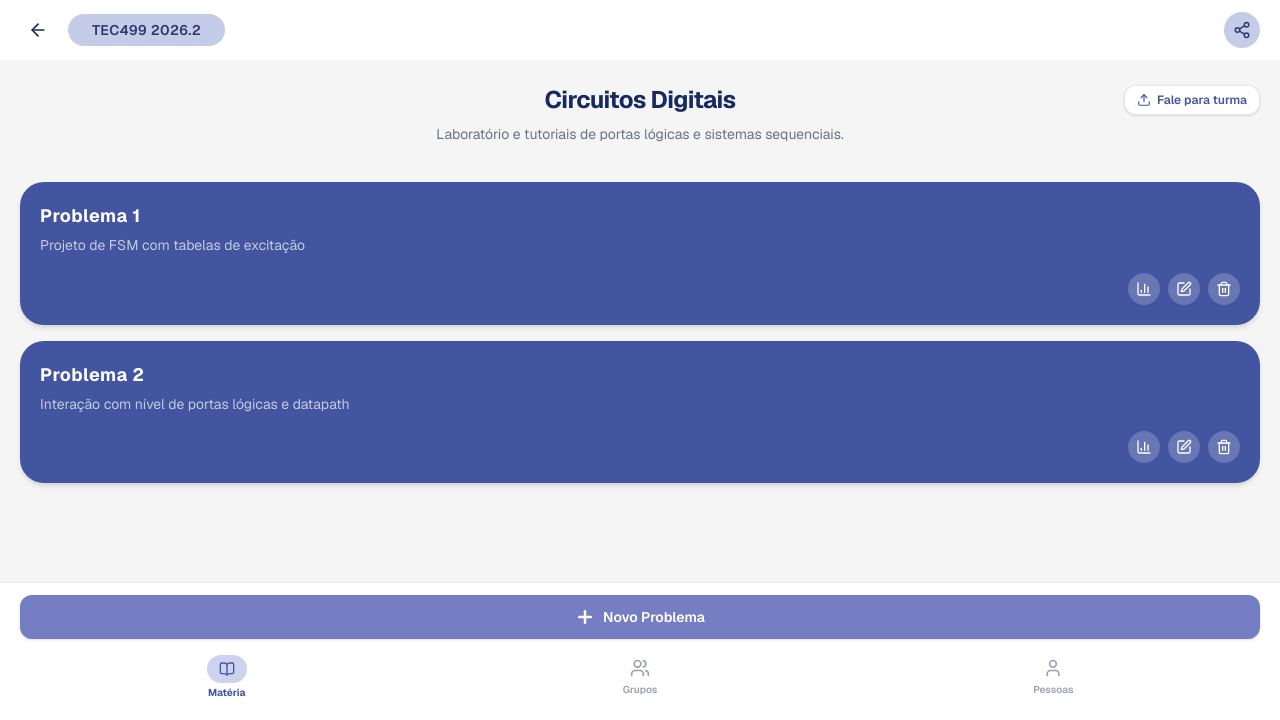
Test case: [US05] Integração da página de disciplinas (CRUD de problemas) › Deve fechar o modal sem excluir quando o tutor cancela
The image size is (1280, 720).
expect the heading "Problema 1" is shown: met, box [40, 204, 141, 227]
Click the 2nd button named "Delete problem": (1224, 447) [1208, 431, 1240, 463]
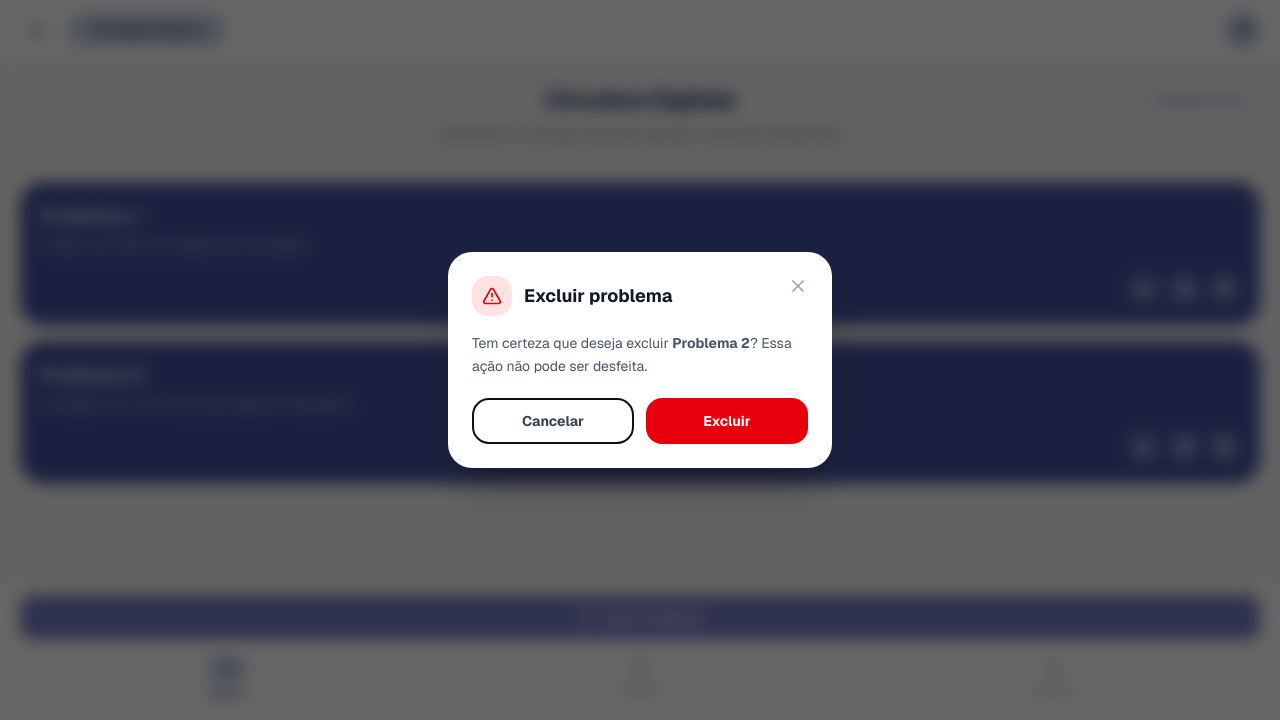
Click the button "Cancelar": (553, 421) [472, 398, 634, 444]
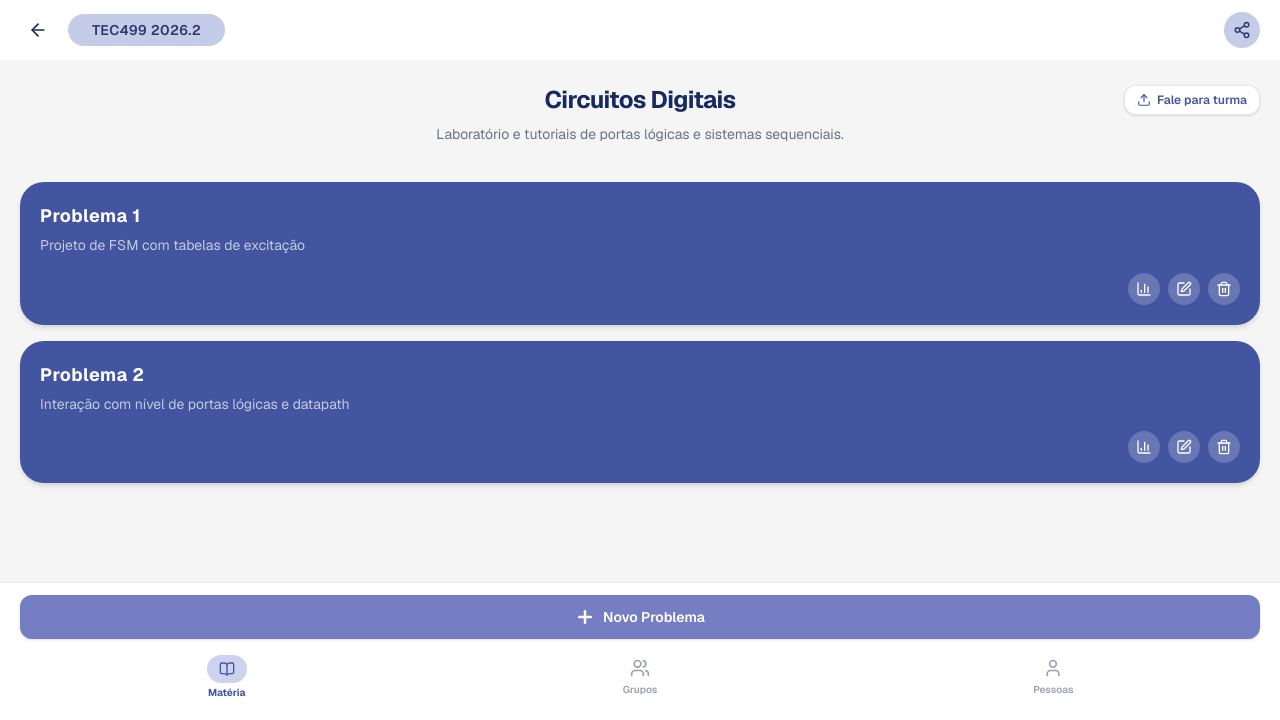
expect the dialog is gone: met
